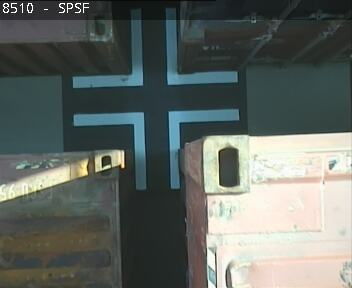groundmarker_1: (72, 108, 236, 190), (73, 5, 237, 87)
